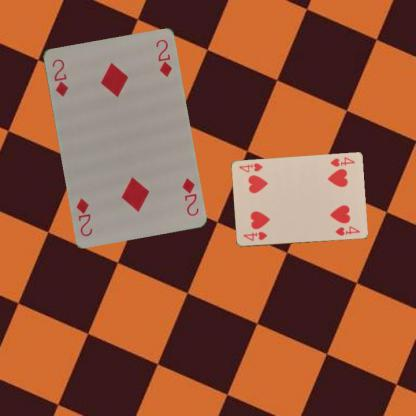2d: (178, 175, 200, 217), (49, 56, 69, 98)
4h: (240, 229, 268, 243), (328, 155, 356, 168)
